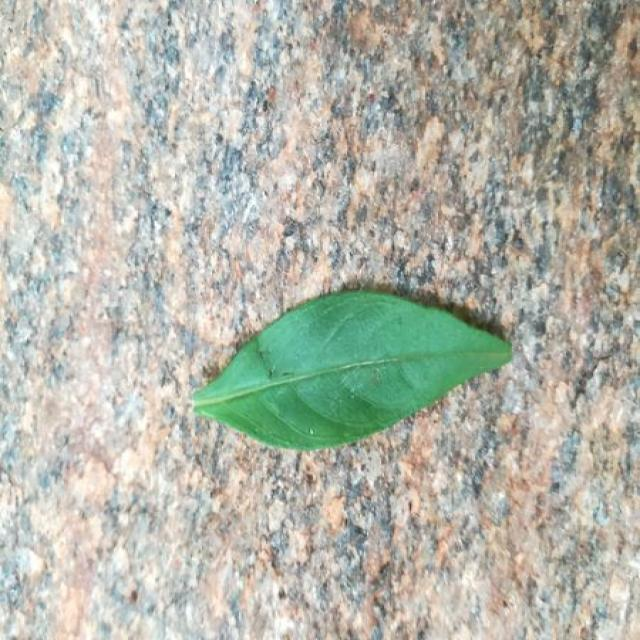Nelavembu: (193, 291, 512, 449)
